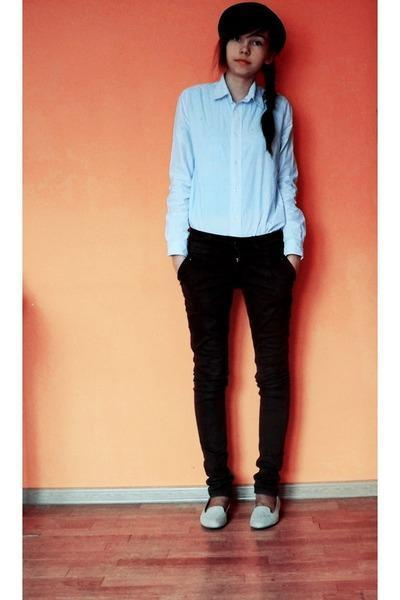pants: (177, 228, 295, 508)
shirt: (165, 76, 305, 264)
shoe: (200, 492, 276, 527)
